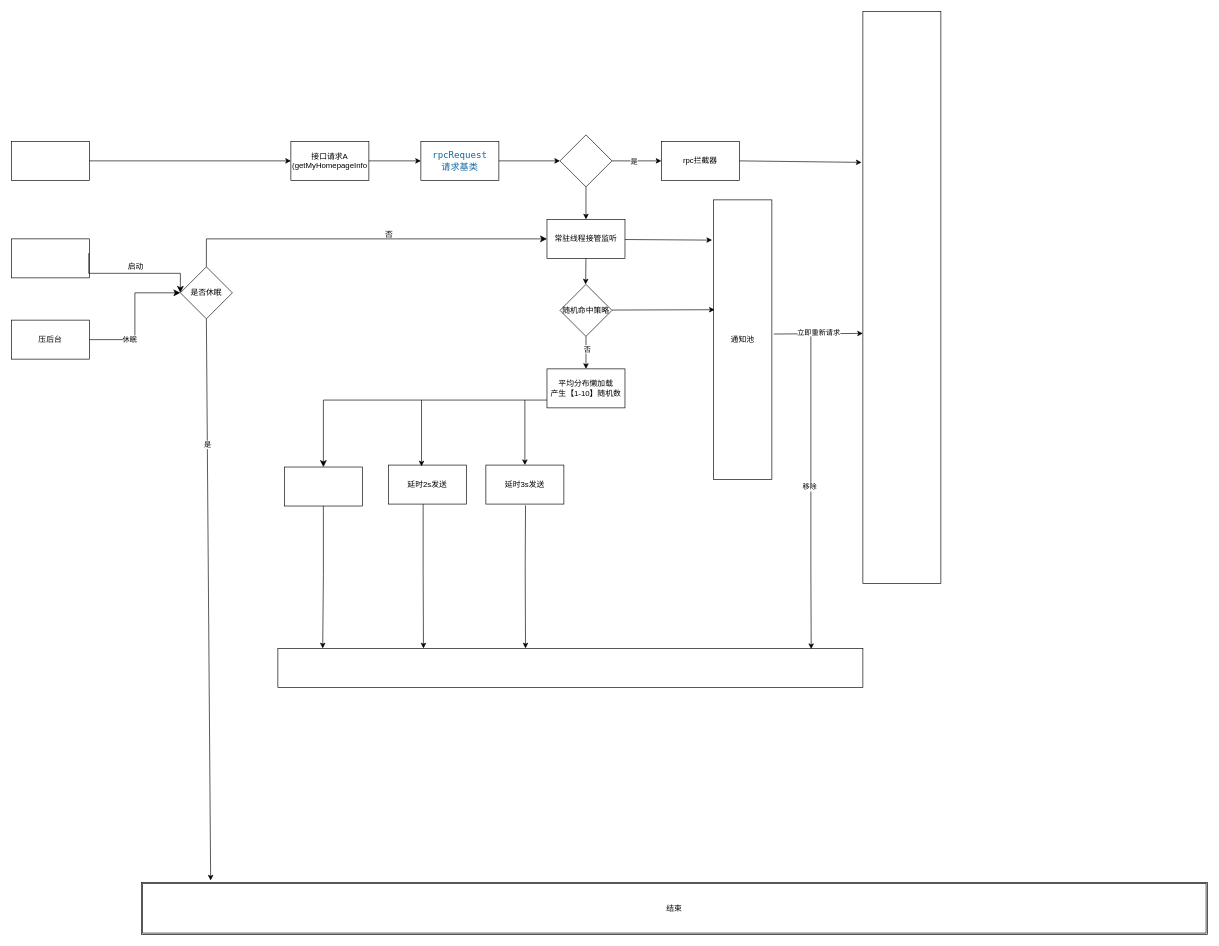
Image size: 1219x946. Some labels were removed from this diagram. The centre of each missing label's shape, as x and y in pixels:
冷启动: pixel 50 160
延时1s发送: pixel 323 486
是否发送: pixel 585 160
服务器: pixel 901 297
移除托管: pixel 570 667
进入前台: pixel 50 258
